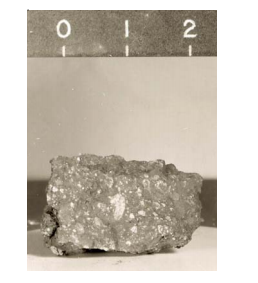Breccia: (43, 113, 212, 262)
